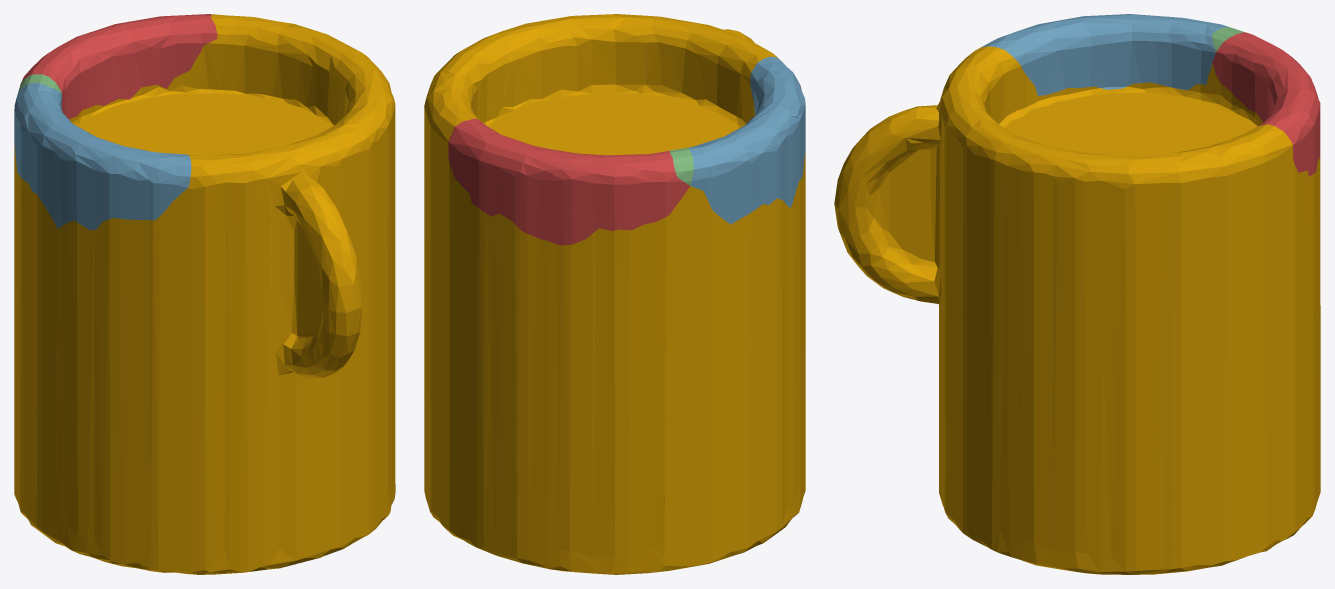
File: fractured_7_4pcs.glb
3 renders of one model, left to right at view 1: azimuth 30°, elevation 25°; view 2: azimuth 150°, elevation 25°; view 3: azimuth 270°, elevation 25°, orthographic.
Parts seen in each view (by area): view 1: piece_0.obj, piece_2.obj, piece_1.obj; view 2: piece_0.obj, piece_1.obj, piece_2.obj, piece_3.obj; view 3: piece_0.obj, piece_2.obj, piece_1.obj.
Part boxes in pixels (left/top/right/bottom): piece_0.obj: left=14, top=14, right=395, bottom=574; piece_2.obj: left=14, top=83, right=191, bottom=229; piece_1.obj: left=20, top=14, right=217, bottom=119; piece_0.obj: left=424, top=14, right=805, bottom=574; piece_1.obj: left=448, top=118, right=689, bottom=245; piece_2.obj: left=689, top=56, right=805, bottom=224; piece_3.obj: left=669, top=147, right=693, bottom=185; piece_0.obj: left=834, top=46, right=1320, bottom=574; piece_2.obj: left=981, top=14, right=1228, bottom=95; piece_1.obj: left=1212, top=32, right=1320, bottom=176.
Size of the model in its own units: 0.7845 by 0.9326 by 1.
